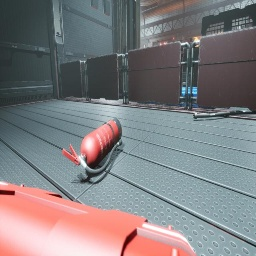FireExtinguisher ]: (62, 117, 122, 175)
FirstAidBox ,: (0, 181, 197, 256)
